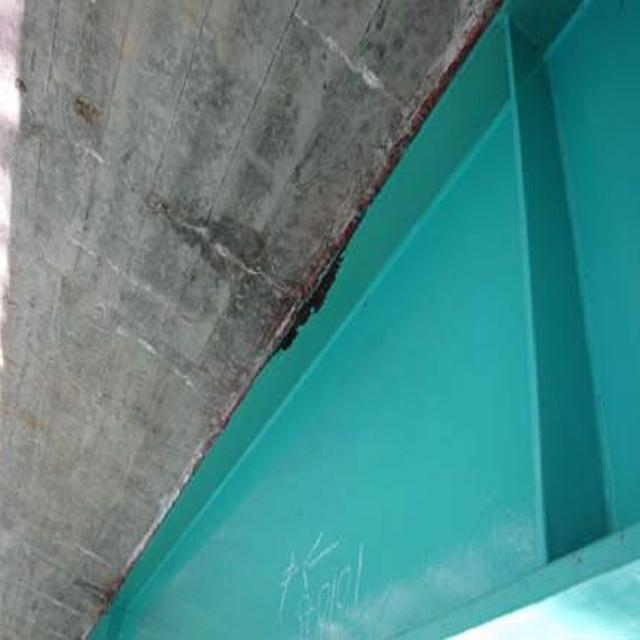corrosion: (211, 9, 496, 342)
